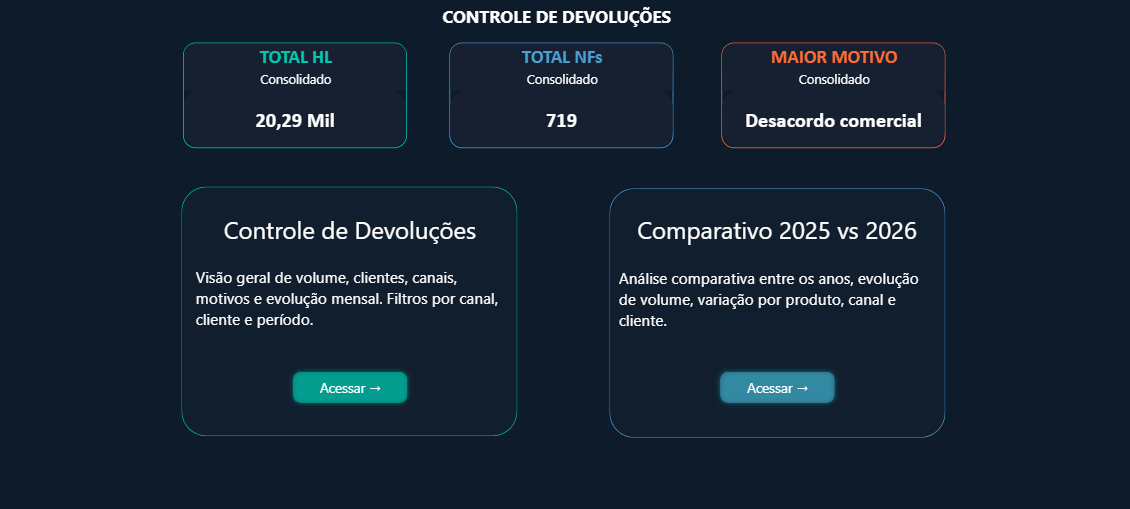

The page's visual inventory and layout, read from the dashboard file:
{"tool":"powerbi","page":{"name":"Início","canvas":[1280,720],"ordinal":0},"visuals":[{"type":"textbox","box":[364,6,522,56],"z":0},{"type":"cardVisual","title":"TOTAL HL","fields":{"Data":["Sheet1_Consolidado.HL Devolvido Total"]},"box":[43.3,71.7,350,165],"z":1000},{"type":"cardVisual","title":"TOTAL NFs","fields":{"Data":["Sheet1.Total NFs"]},"box":[460,71.7,350,165],"z":2000},{"type":"cardVisual","title":"MAIOR MOTIVO","fields":{"Data":["Sheet1.Motivo Lider"]},"box":[885,71.7,350,165],"z":3000},{"type":"shape","box":[41.7,296.7,525,390],"z":4000},{"type":"shape","box":[710,298.3,525,390],"z":5000},{"type":"textbox","box":[46.7,333.3,516.7,73.3],"z":6000},{"type":"textbox","box":[58.3,416.7,491.7,131.7],"z":7000},{"type":"textbox","box":[720,333.8,503.8,65],"z":8000},{"type":"textbox","box":[720,417.1,503.4,115.6],"z":9000},{"type":"actionButton","box":[207.5,577.5,195,65],"z":10000},{"type":"actionButton","box":[875,577.5,195,65],"z":11000}]}

Visuals, with their boxes on the page's 1280x720 design canvas (x1, y1, x2, y2). These are canvas units, not pixel positions in the 1130x509 screenshot, which may show the page scaled, cropped or inside an application window:
textbox: region(364, 6, 886, 62)
"TOTAL HL" cardVisual: region(43, 72, 393, 237)
"TOTAL NFs" cardVisual: region(460, 72, 810, 237)
"MAIOR MOTIVO" cardVisual: region(885, 72, 1235, 237)
shape: region(42, 297, 567, 687)
shape: region(710, 298, 1235, 688)
textbox: region(47, 333, 563, 407)
textbox: region(58, 417, 550, 548)
textbox: region(720, 334, 1224, 399)
textbox: region(720, 417, 1223, 533)
actionButton: region(208, 578, 402, 642)
actionButton: region(875, 578, 1070, 642)
